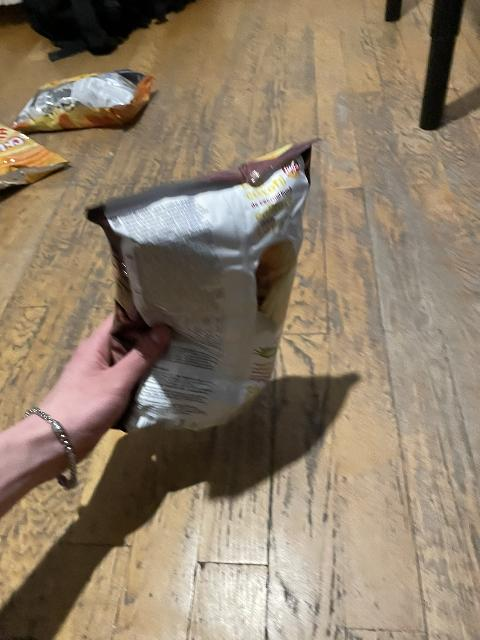Chio Cascaval 125g: (11, 69, 153, 133)
Chio Hula Hoops Cheese 70g: (0, 119, 71, 194)
Lays Beef Grilled Ribs 125g: (86, 144, 318, 434)
